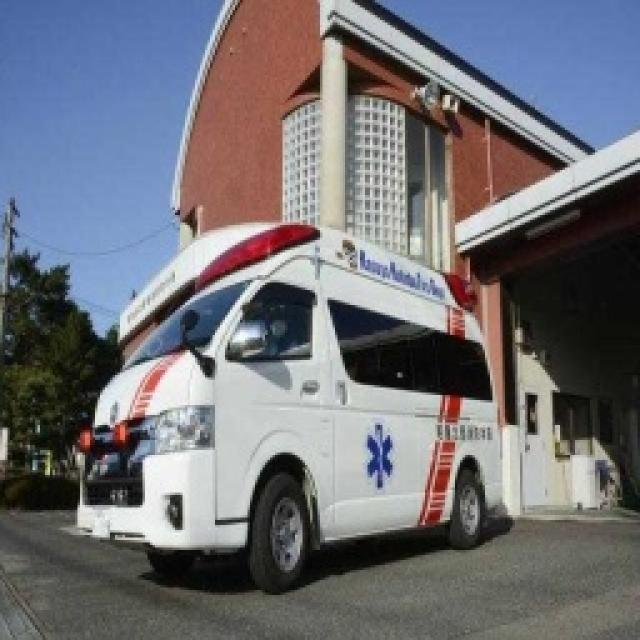emergency-vehicle: (63, 221, 506, 581)
